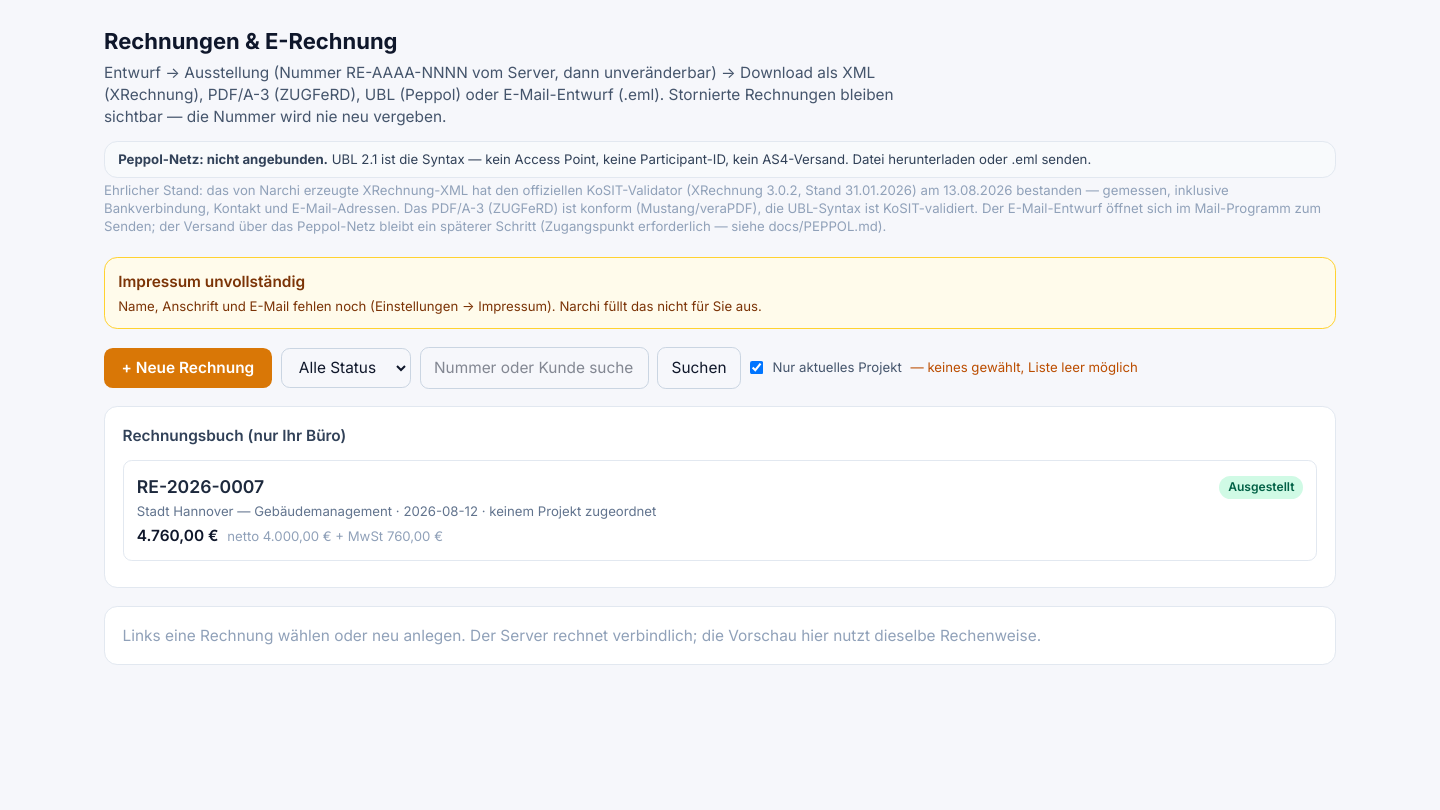
Test case: Page Rechnungen §116 › e-mail .eml : clique → la bonne route est appelée (et le refus est dit)
The width and height of the screenshot is (1440, 810).
Click the button that starts with "RE-2026-0007". click: click(201, 487)
box: [123, 460, 1317, 561]
(page scrolled)
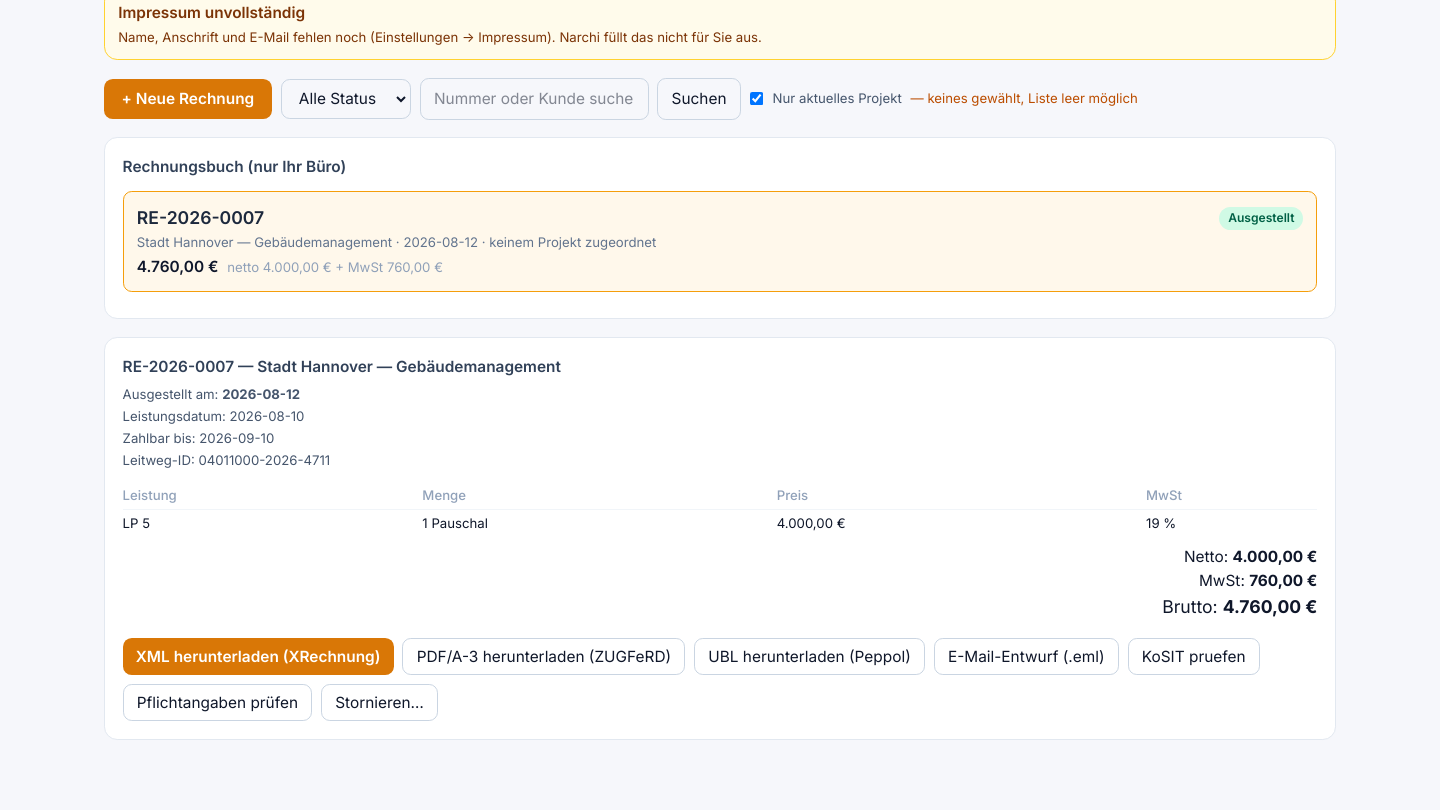
Now the button "E-Mail-Entwurf (.eml)" is shown
Click the button "E-Mail-Entwurf (.eml)". click: click(1026, 657)
box: [934, 638, 1119, 675]
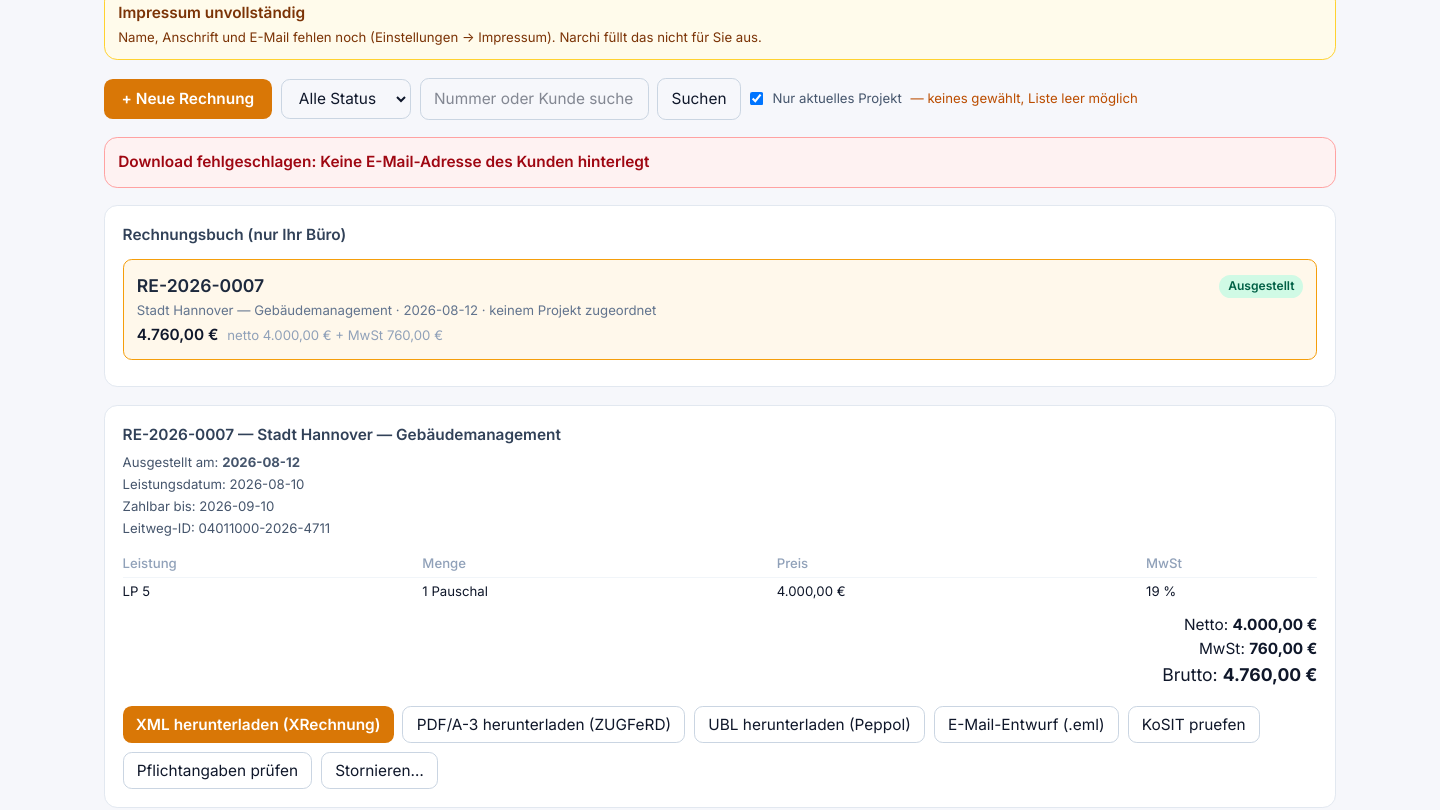
Now the text "Keine E-Mail-Adresse des Kunden hinterlegt" is shown, box [118, 152, 649, 172]
